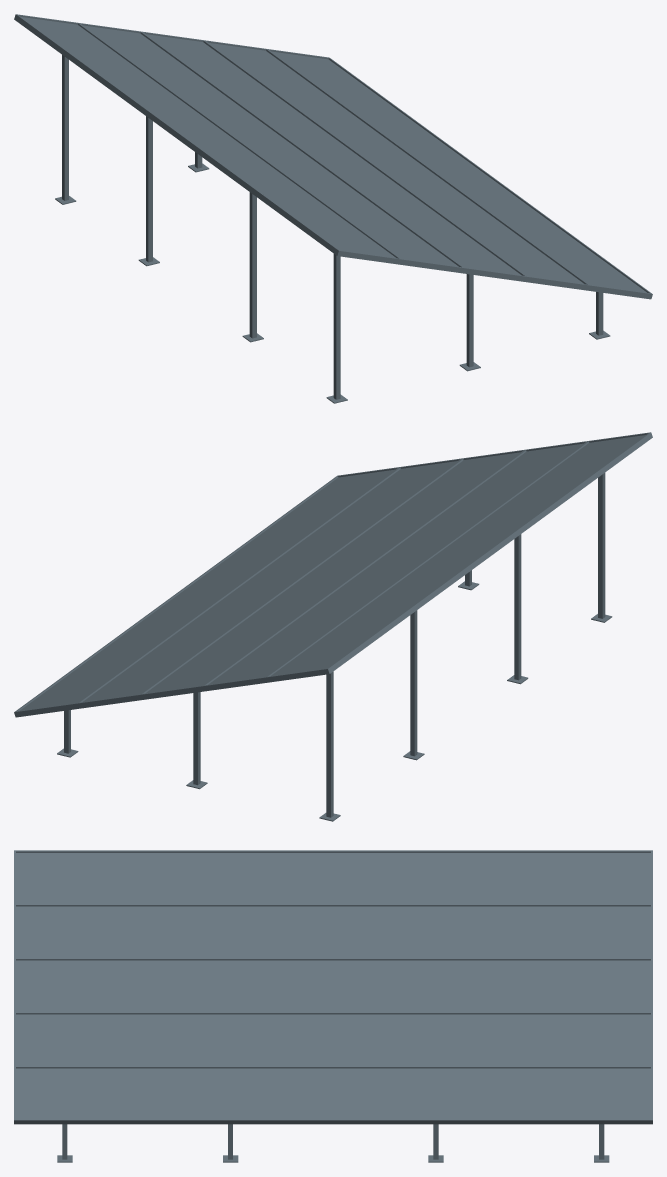
File: SM05_Industrial_SolarPanel_01_Flat.fbx
3 views of the same model, one above another, from view 1: azimuth 30°, elevation 25°; view 2: azimuth 150°, elevation 25°; view 3: azimuth 270°, elevation 25° (orthographic).
Visible parts, largest first — view 1: SM05_Industrial_SolarPanel_01_Flat; view 2: SM05_Industrial_SolarPanel_01_Flat; view 3: SM05_Industrial_SolarPanel_01_Flat.
Part boxes in pixels (left/top/right/bottom): SM05_Industrial_SolarPanel_01_Flat: left=14, top=14, right=652, bottom=403; SM05_Industrial_SolarPanel_01_Flat: left=14, top=432, right=652, bottom=821; SM05_Industrial_SolarPanel_01_Flat: left=14, top=850, right=652, bottom=1162.
Size of the model in its own units: 825 by 432 by 1463.
